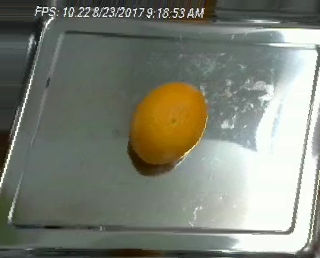Orange: (129, 81, 208, 163)
